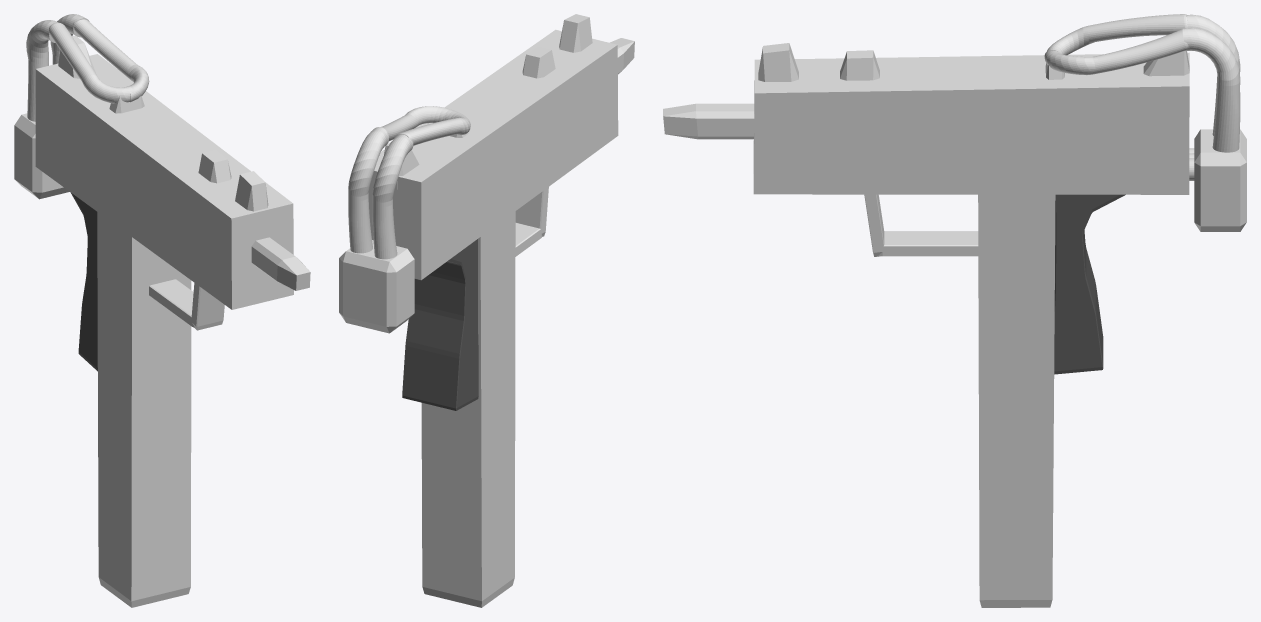
3 views of the same model, side by side, from view 1: azimuth 30°, elevation 25°; view 2: azimuth 150°, elevation 25°; view 3: azimuth 270°, elevation 25° (orthographic). The views are drawn at different scales.
Parts seen in each view (by area): view 1: Grip, Main, Detail.009, Detail, Detail.002, Detail.006, Grip.001, Detail.004, Detail.001, Grip.002, Grip.003, Detail.003; view 2: Main, Grip, Detail, Detail.002, Detail.006, Detail.009, Grip.002, Detail.001, Grip.003, Detail.004, Grip.001; view 3: Main, Grip, Detail, Detail.009, Detail.002, Detail.006, Grip.001, Detail.004, Grip.002, Grip.003, Detail.001, Detail.003.
Boxes of the visible parts, x1,y1,x2,y2 form: Grip: (97, 212, 191, 607); Main: (35, 54, 293, 309); Detail.009: (49, 19, 149, 103); Detail: (70, 192, 97, 371); Detail.002: (14, 113, 69, 199); Detail.006: (26, 14, 89, 121); Grip.001: (251, 237, 310, 290); Detail.004: (149, 279, 194, 327); Detail.001: (191, 283, 224, 330); Grip.002: (235, 171, 268, 211); Grip.003: (198, 150, 231, 183); Detail.003: (58, 35, 95, 78); Main: (368, 29, 618, 280); Grip: (421, 211, 515, 607); Detail: (402, 239, 478, 410); Detail.002: (339, 240, 414, 333); Detail.006: (348, 127, 413, 259); Detail.009: (381, 106, 470, 145); Grip.002: (559, 14, 592, 52); Detail.001: (515, 187, 548, 236); Grip.003: (522, 46, 555, 78); Detail.004: (515, 223, 542, 256); Grip.001: (610, 38, 634, 74); Main: (753, 52, 1189, 194); Grip: (978, 194, 1055, 607); Detail: (1054, 194, 1125, 374); Detail.009: (1044, 14, 1188, 75); Detail.002: (1194, 129, 1246, 231); Detail.006: (1182, 14, 1240, 152); Grip.001: (663, 103, 754, 139); Detail.004: (878, 231, 978, 256); Grip.002: (758, 43, 798, 81); Grip.003: (840, 50, 879, 80); Detail.001: (864, 194, 884, 256); Detail.003: (1143, 51, 1189, 76).
Size of the model in its own units: 0.3252 by 2.57 by 2.38.
